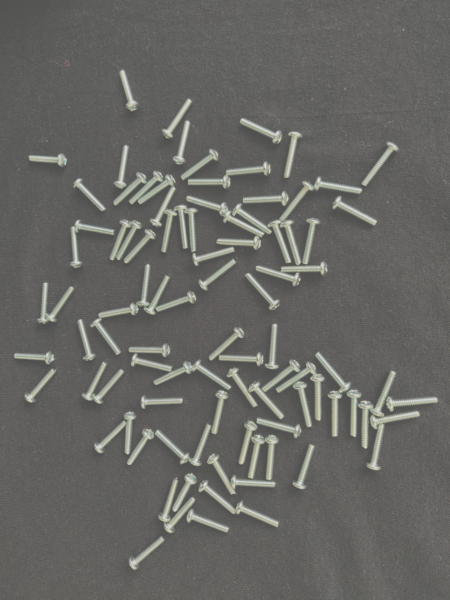longscrew: (364, 142, 398, 187), (335, 196, 377, 232), (235, 498, 278, 532), (243, 273, 280, 310), (160, 100, 195, 139), (316, 353, 352, 389), (227, 370, 259, 410), (154, 427, 188, 464), (195, 357, 232, 391), (372, 371, 398, 418), (200, 259, 237, 292), (278, 362, 315, 395), (281, 184, 311, 224), (132, 536, 166, 571), (249, 383, 283, 418), (182, 151, 219, 183), (212, 327, 244, 364), (150, 188, 181, 226), (363, 425, 387, 474), (242, 117, 282, 146), (163, 501, 197, 535), (75, 175, 107, 211), (198, 481, 234, 513), (124, 430, 154, 468), (208, 455, 235, 497), (256, 263, 302, 287), (189, 508, 226, 537), (156, 360, 194, 388), (94, 421, 126, 454), (256, 417, 304, 439), (129, 172, 163, 203), (234, 205, 273, 232), (93, 370, 123, 405), (45, 286, 75, 321), (264, 363, 297, 394), (139, 176, 176, 203), (27, 370, 59, 401), (113, 174, 144, 206), (122, 232, 155, 262), (373, 409, 420, 430), (118, 69, 141, 111), (111, 146, 134, 188), (281, 131, 302, 177), (114, 223, 140, 260), (155, 290, 195, 314), (194, 244, 234, 268), (82, 362, 106, 401), (235, 422, 257, 464), (191, 424, 213, 466), (270, 221, 291, 265), (295, 443, 315, 489), (225, 214, 263, 238), (92, 320, 118, 355), (171, 475, 196, 511), (283, 220, 303, 265), (106, 221, 129, 260), (187, 195, 229, 216), (206, 392, 226, 436), (145, 277, 169, 313), (159, 479, 179, 521), (283, 260, 329, 278), (10, 347, 56, 365), (75, 320, 95, 361), (171, 121, 190, 164), (227, 159, 270, 178), (316, 178, 363, 195), (216, 232, 263, 249), (95, 301, 139, 319), (188, 174, 232, 192), (304, 219, 321, 265), (186, 207, 203, 253), (160, 209, 177, 255), (131, 356, 174, 374), (219, 348, 262, 366), (75, 218, 118, 236), (244, 190, 287, 208), (175, 205, 192, 250), (295, 381, 311, 427), (35, 279, 50, 326), (387, 398, 440, 411), (137, 265, 152, 309), (265, 322, 279, 369), (248, 436, 263, 479), (141, 396, 186, 409), (70, 222, 82, 270), (267, 436, 279, 482), (348, 393, 361, 435), (129, 343, 174, 355), (123, 413, 135, 456), (26, 156, 68, 168), (330, 388, 340, 438), (314, 373, 324, 423), (360, 404, 370, 453), (230, 479, 279, 489)
